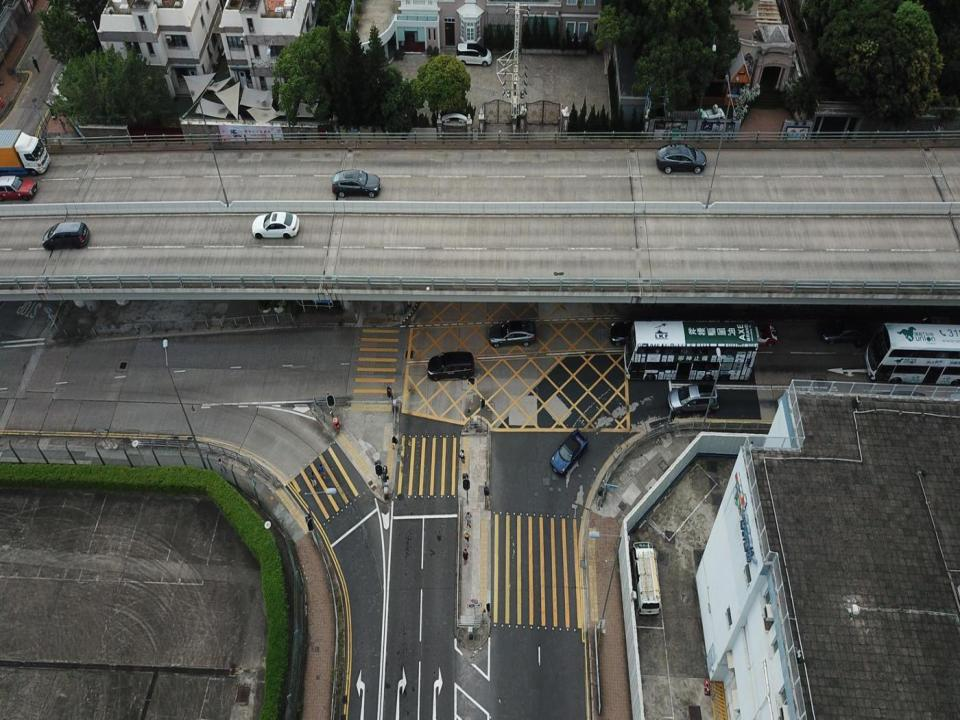bus: (622, 321, 758, 383), (866, 322, 960, 388)
car: (549, 429, 588, 476), (668, 381, 717, 416), (656, 144, 707, 174), (252, 210, 299, 240), (486, 322, 536, 347), (456, 41, 492, 68), (822, 321, 862, 345), (0, 176, 39, 200), (743, 323, 778, 347), (610, 319, 643, 343)
truck: (0, 128, 50, 175)
van: (633, 540, 661, 614), (330, 168, 380, 197), (43, 221, 91, 250), (428, 352, 476, 380)
